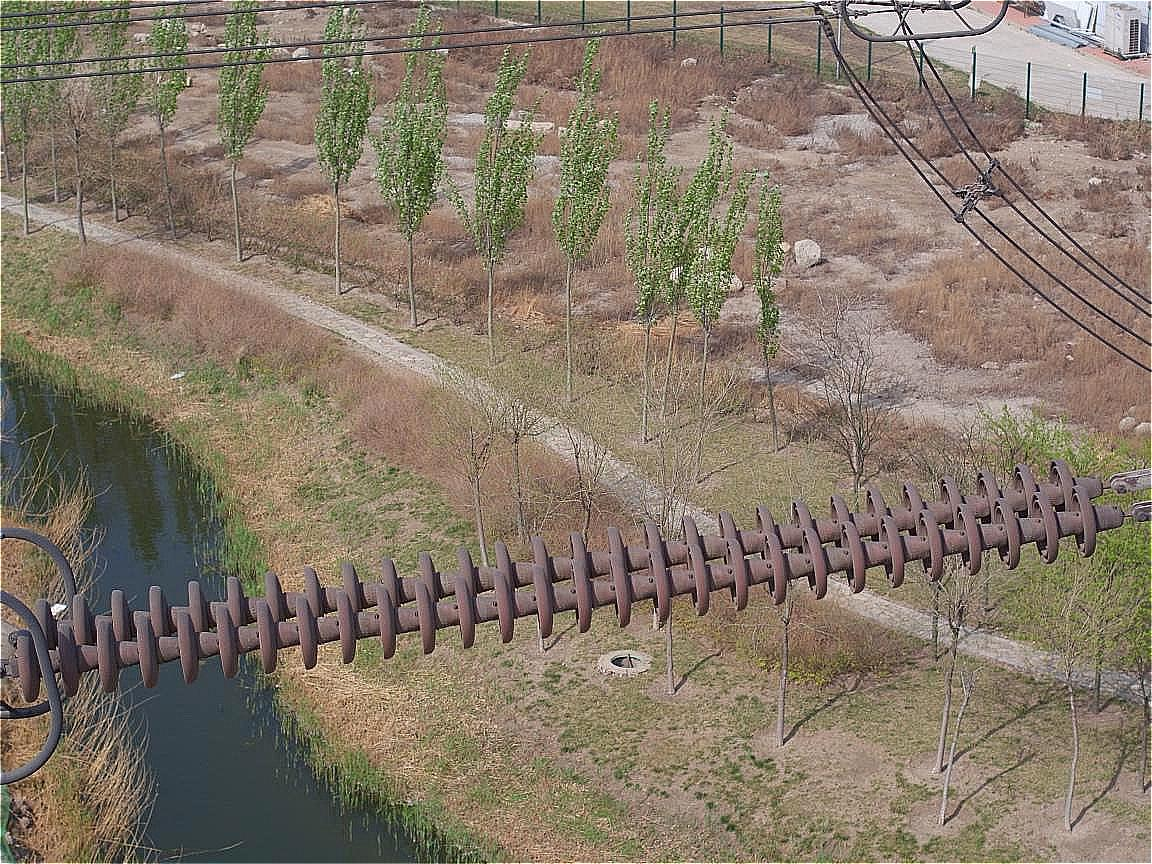insultor1: (60, 462, 1122, 700)
